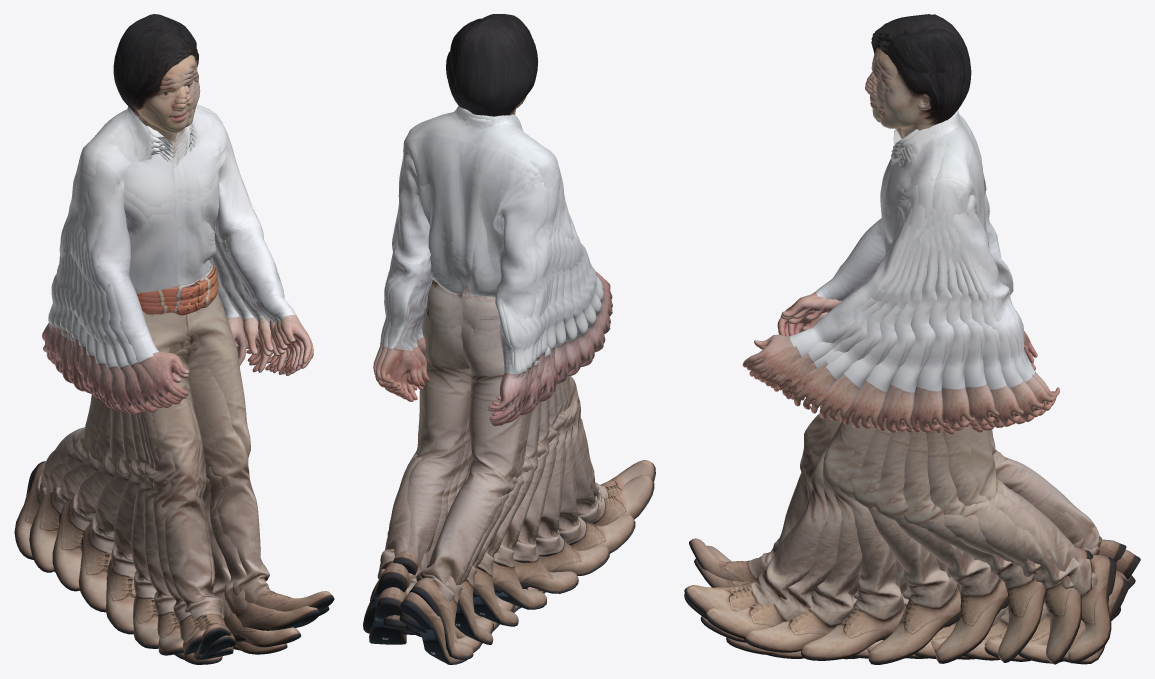
File: caminante_hombre_japones.glb
3 renders of one model, left to right at view 1: azimuth 30°, elevation 25°; view 2: azimuth 150°, elevation 25°; view 3: azimuth 270°, elevation 25°, orthographic. The views are drawn at different scales.
Parts seen in each view (by area): view 1: frame16, frame5, frame14, frame4, frame13, frame12, frame17, frame15, frame11, frame6, frame10, frame9 (+11 smaller); view 2: frame6, frame18, frame7, frame19, frame12, frame23, frame0, frame15, frame13, frame9, frame10, frame8 (+11 smaller); view 3: frame0, frame1, frame23, frame4, frame20, frame22, frame21, frame2, frame3, frame16, frame19, frame6 (+9 smaller).
Part boxes in pixels (x1=…): frame16: x1=44, y1=56, x2=304, y2=654; frame5: x1=54, y1=53, x2=319, y2=642; frame14: x1=59, y1=45, x2=295, y2=655; frame4: x1=117, y1=51, x2=334, y2=611; frame13: x1=64, y1=33, x2=286, y2=648; frame12: x1=69, y1=19, x2=269, y2=634; frame17: x1=42, y1=60, x2=313, y2=658; frame15: x1=52, y1=51, x2=300, y2=654; frame11: x1=73, y1=107, x2=246, y2=612; frame6: x1=63, y1=197, x2=301, y2=647; frame10: x1=52, y1=46, x2=207, y2=591; frame9: x1=29, y1=191, x2=217, y2=572; frame6: x1=380, y1=157, x2=612, y2=652; frame18: x1=383, y1=64, x2=549, y2=630; frame7: x1=386, y1=51, x2=610, y2=664; frame19: x1=369, y1=71, x2=541, y2=644; frame12: x1=428, y1=14, x2=578, y2=593; frame23: x1=403, y1=43, x2=569, y2=384; frame0: x1=403, y1=16, x2=545, y2=593; frame15: x1=424, y1=42, x2=654, y2=526; frame13: x1=427, y1=15, x2=609, y2=575; frame9: x1=412, y1=189, x2=594, y2=644; frame10: x1=422, y1=193, x2=581, y2=626; frame8: x1=397, y1=197, x2=605, y2=659; frame0: x1=837, y1=14, x2=983, y2=664; frame1: x1=801, y1=16, x2=975, y2=660; frame23: x1=850, y1=35, x2=1008, y2=663; frame4: x1=684, y1=45, x2=1046, y2=613; frame20: x1=786, y1=82, x2=1116, y2=663; frame22: x1=843, y1=57, x2=1047, y2=662; frame21: x1=811, y1=70, x2=1092, y2=664; frame2: x1=744, y1=28, x2=999, y2=652; frame3: x1=704, y1=41, x2=1023, y2=638; frame16: x1=689, y1=40, x2=1047, y2=660; frame19: x1=773, y1=177, x2=1128, y2=664; frame6: x1=700, y1=53, x2=1135, y2=642.
Size of the model in its own units: 0.5598 by 1.78 by 1.18.
1 material, 1 textured.
